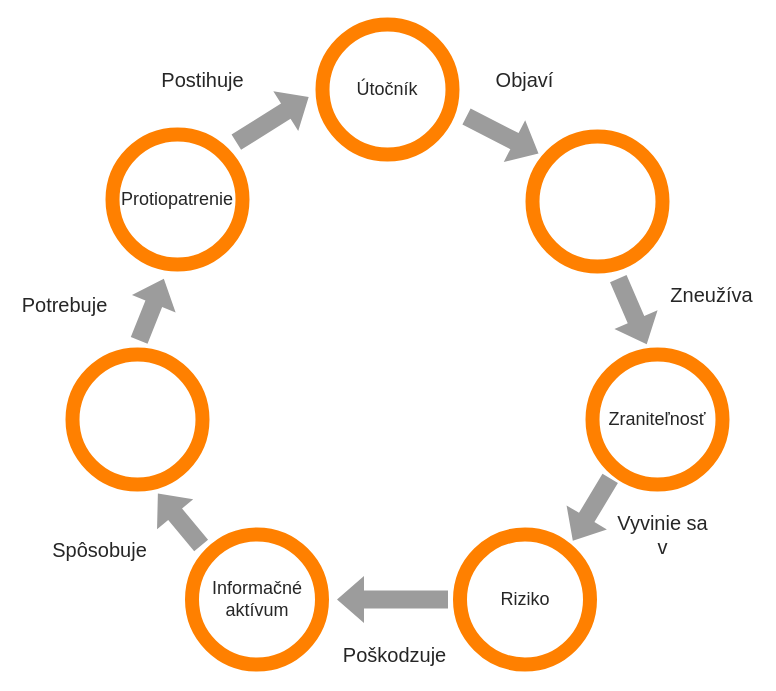
Image size: 776x691. Some labels were removed from this diagram. Here are the shapes that lost their labels. From the top down, the box of each, then its label:
(525, 129, 669, 273): Hrozba
(65, 347, 209, 491): Expozícia informačného aktíva
